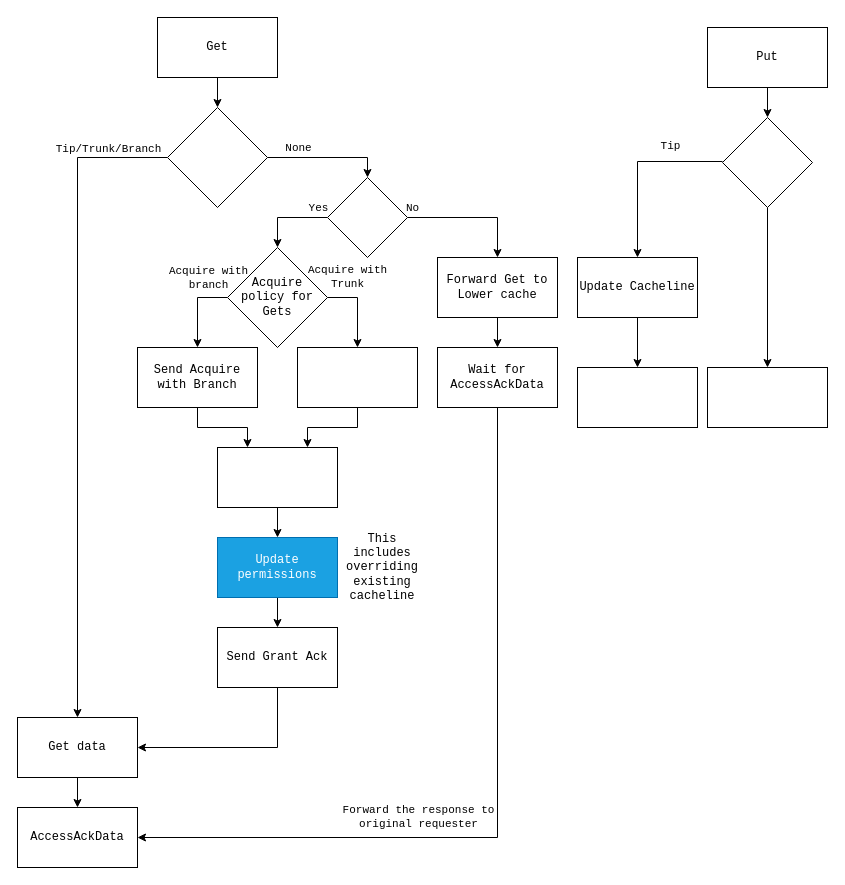
Some shapes in this 845 by 885 pixel diagram are drawn without their labels. Each missing label, with the centre of its shape:
"Permission" belongs at pixel 767 162.
"Permission?" belongs at pixel 217 157.
"Send Acquire with Trunk" belongs at pixel 357 377.
"service locally?" belongs at pixel 367 217.
"Update cachestate" belongs at pixel 637 397.
"Wait for Grant Data" belongs at pixel 277 477.
